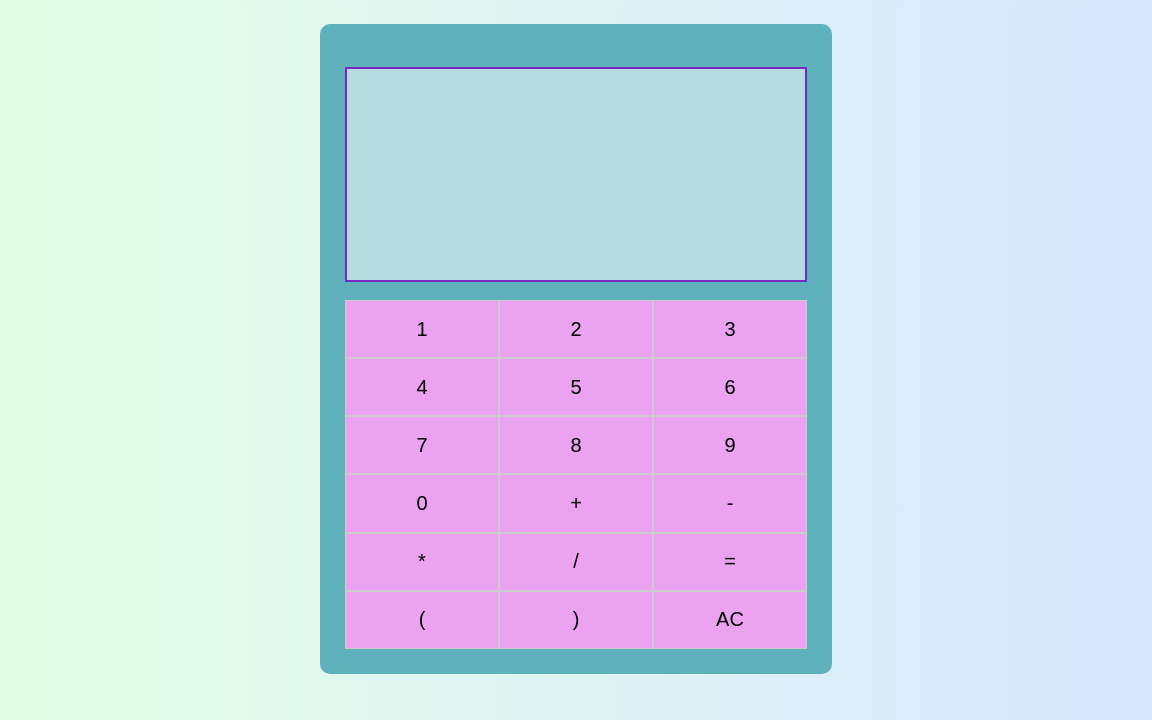
Test: Calculator app › Calculates correct value
What coordinates should you click on to do the following:
click the button "("
I would click on:
 (422, 620)
Its box is [345, 591, 499, 649].
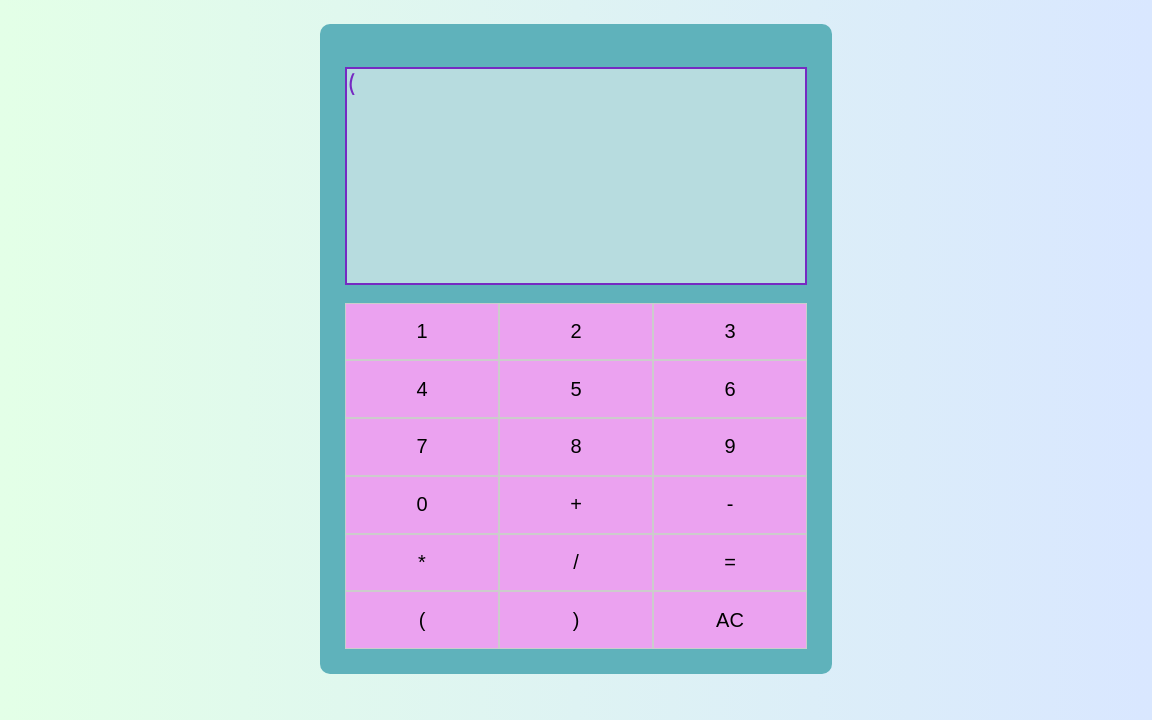
What coordinates should you click on to do the following:
click the button "5"
I would click on:
 (576, 389)
Its box is [499, 360, 653, 418].
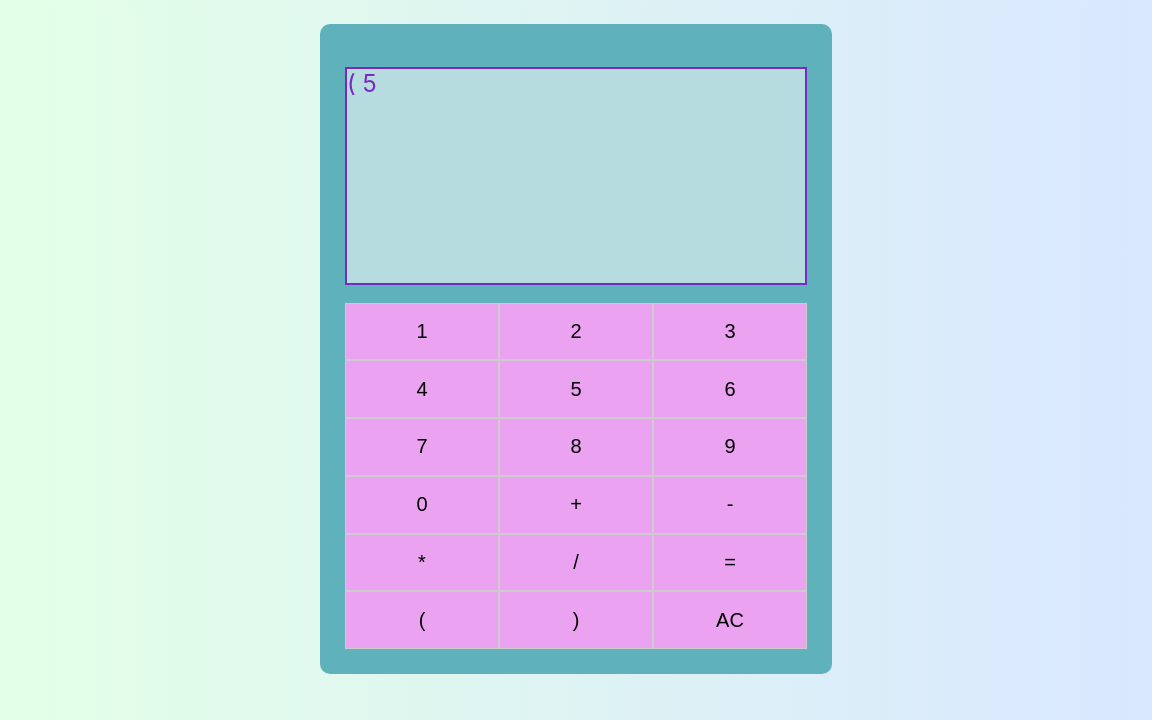
What coordinates should you click on to do the following:
click the button "+"
I would click on:
 (576, 505)
Its box is [499, 476, 653, 534].
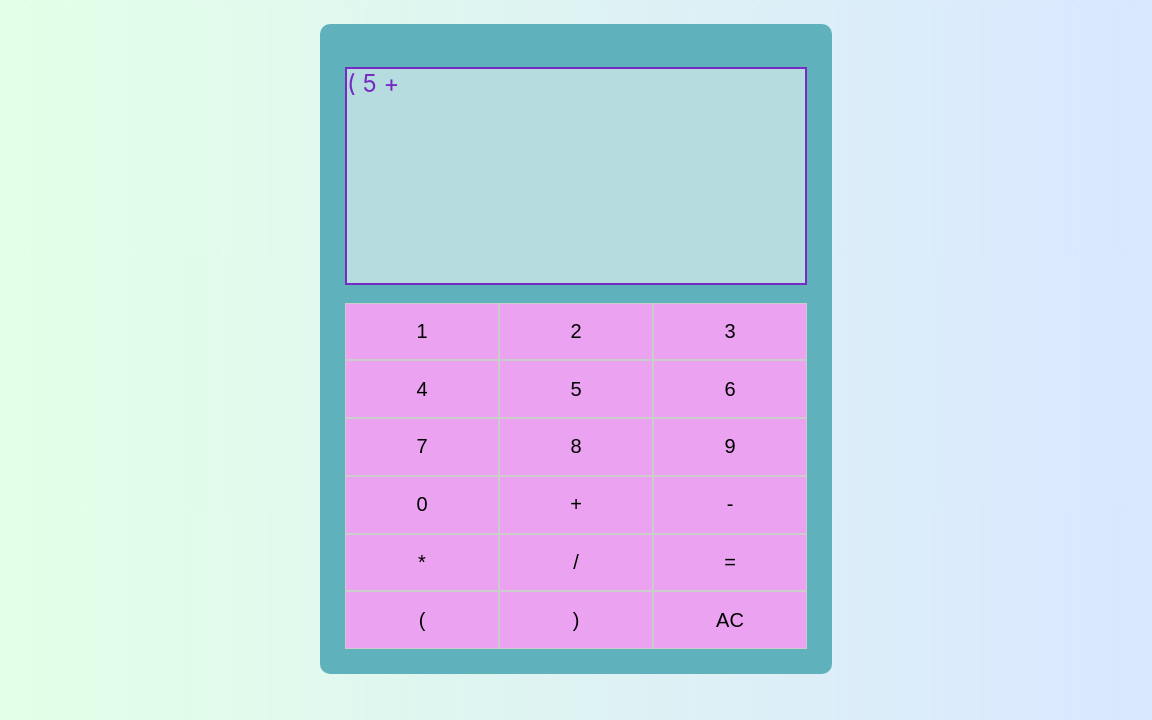
What coordinates should you click on to do the following:
click the button "5"
I would click on:
 (576, 389)
Its box is [499, 360, 653, 418].
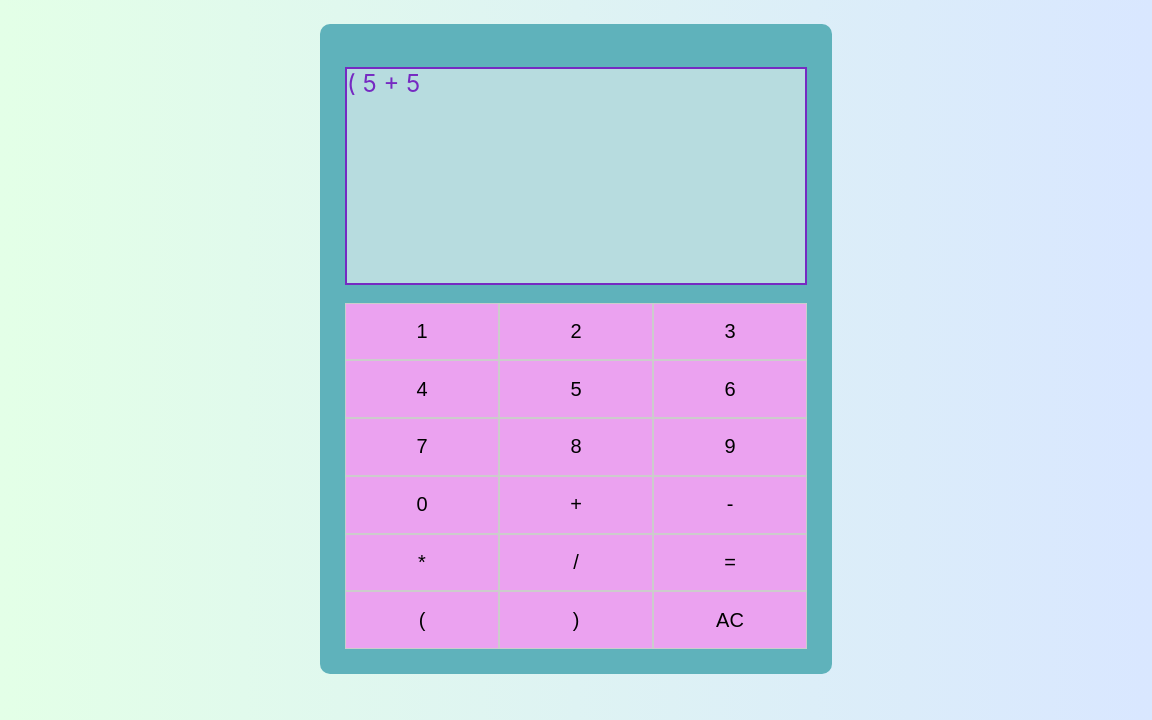
What coordinates should you click on to do the following:
click the button ")"
I would click on:
 (576, 620)
Its box is [499, 591, 653, 649].
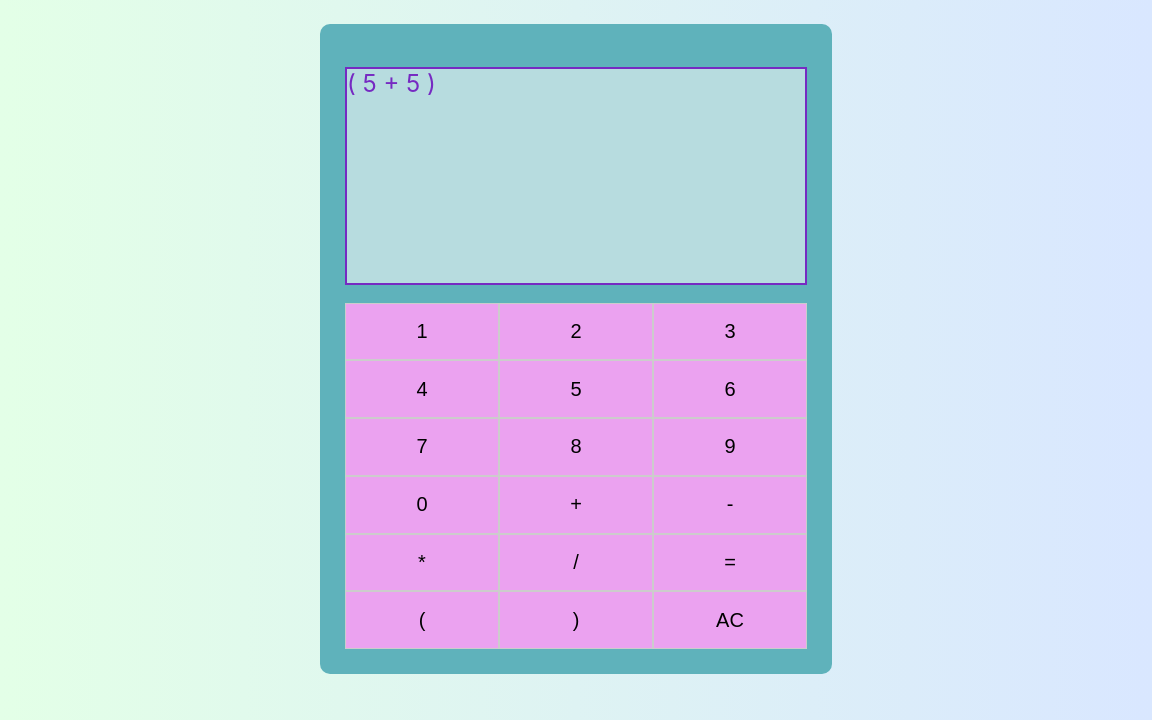
What coordinates should you click on to do the following:
click the button "="
I would click on:
 (730, 563)
Its box is [653, 534, 807, 592].
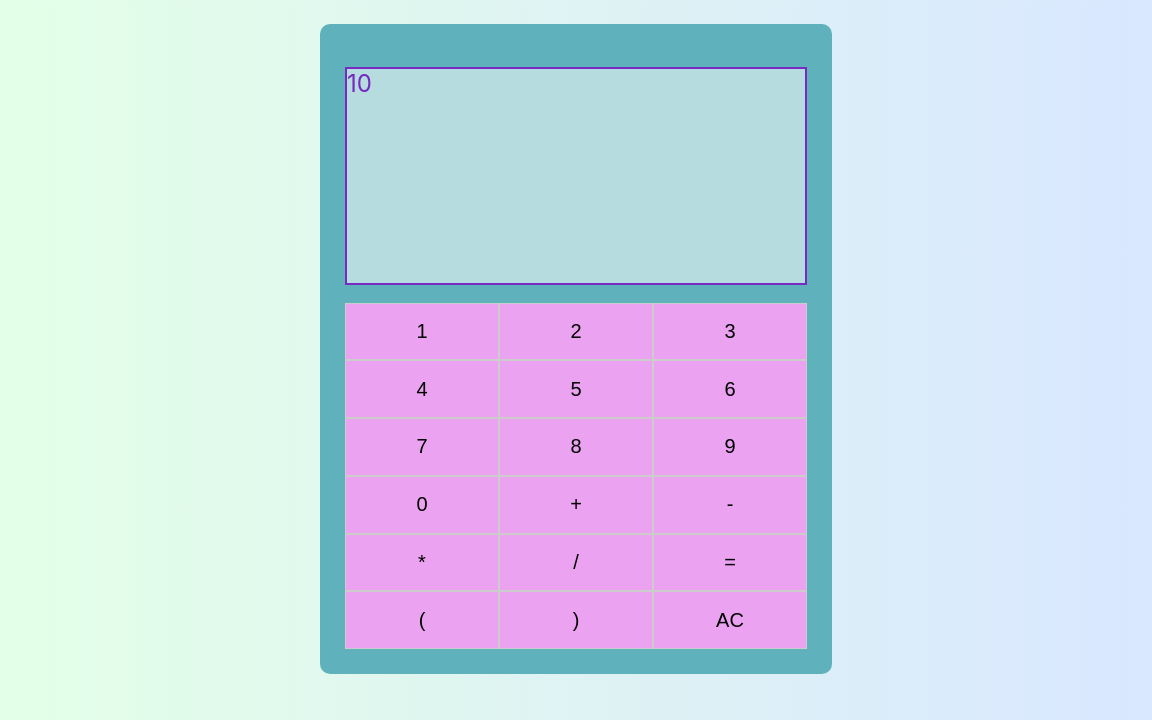
Expected: the text "10" is shown, [345, 67, 807, 284]
